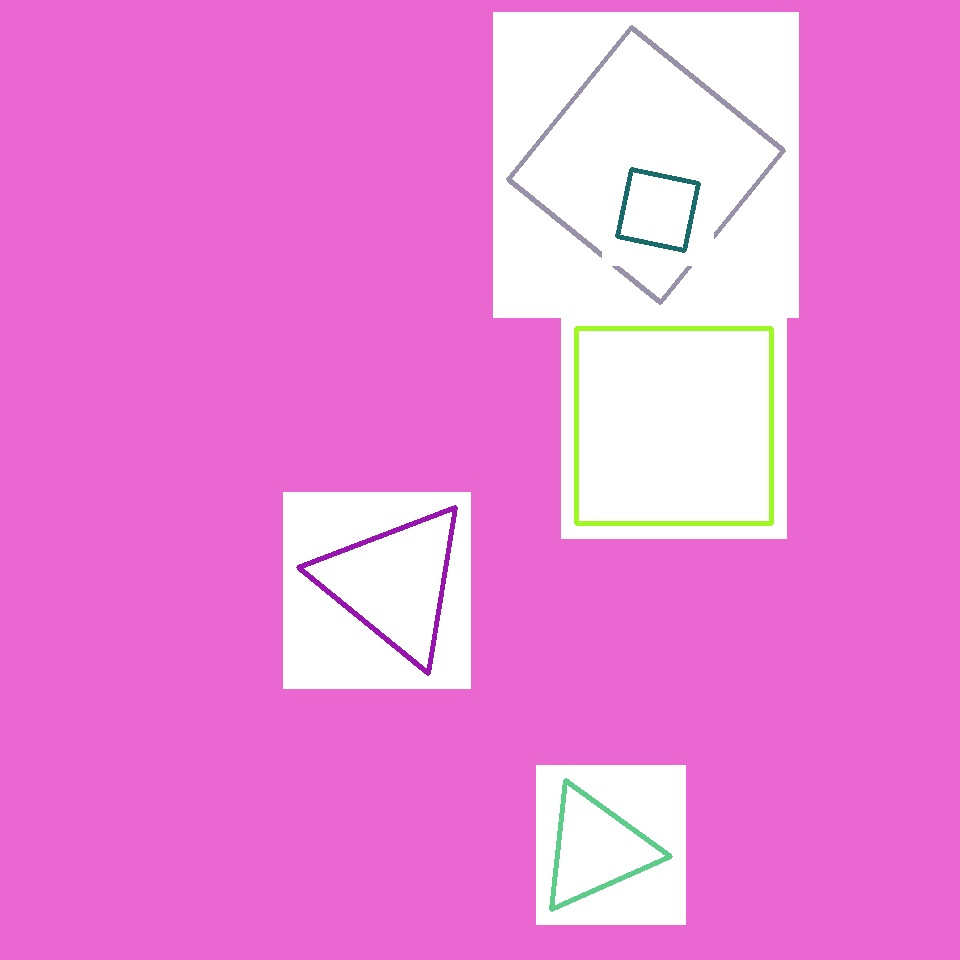circle: (381, 576, 649, 862), (315, 348, 571, 640), (480, 238, 730, 504), (316, 500, 472, 666), (536, 785, 656, 914), (474, 340, 572, 444)
square: (509, 28, 784, 302), (576, 328, 772, 524), (618, 170, 698, 250)
triangle: (556, 625, 796, 865), (686, 518, 866, 698)
